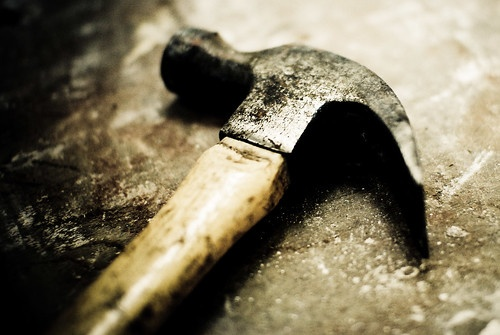hammer: (69, 20, 429, 334)
